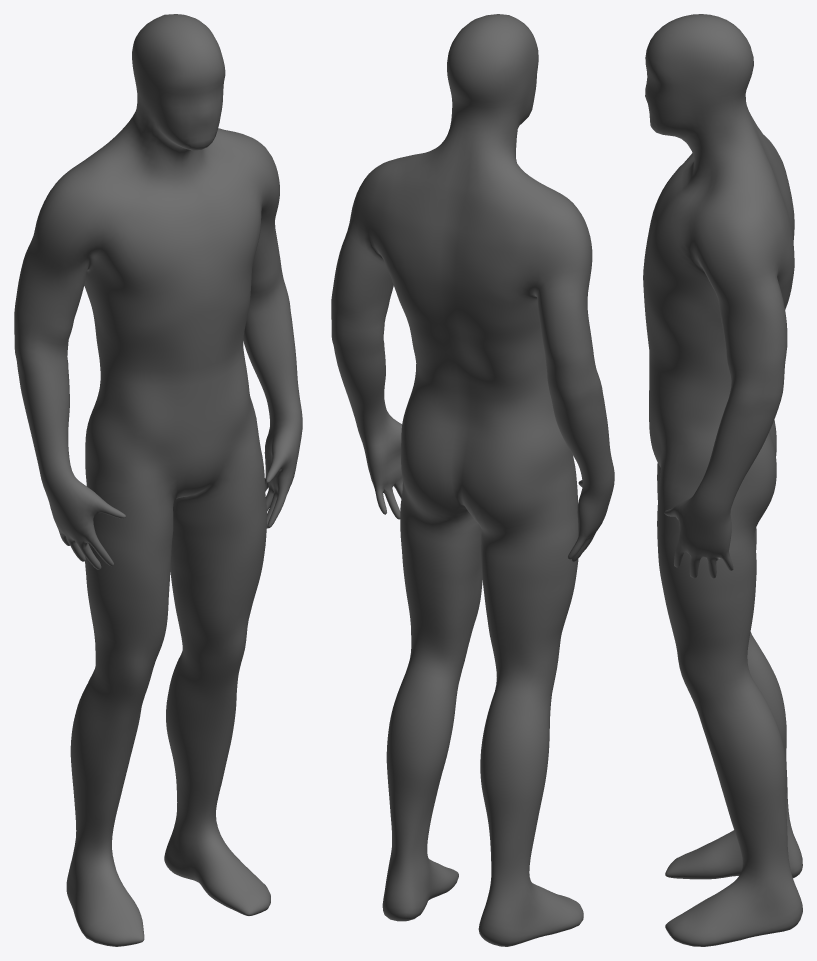
File: mannequin.glb
3 renders of one model, left to right at view 1: azimuth 30°, elevation 25°; view 2: azimuth 150°, elevation 25°; view 3: azimuth 270°, elevation 25°, orthographic.
Visible parts, largest first — view 1: RootNode; view 2: RootNode; view 3: RootNode.
Part boxes in pixels (box(x1,y1,x2,y2)): RootNode: box(14, 14, 302, 946); RootNode: box(331, 14, 614, 946); RootNode: box(643, 14, 802, 946).
Size of the model in its own units: 0.5469 by 1.77 by 0.2891.
1 material, 1 textured.
